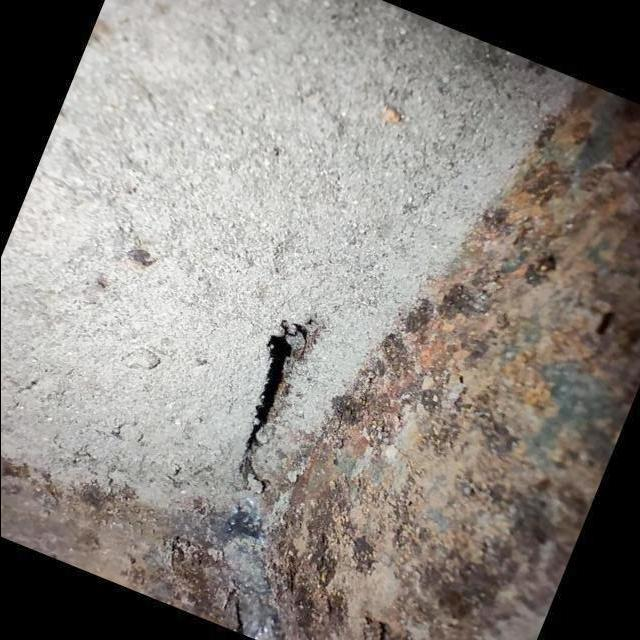defect: (235, 317, 313, 498)
